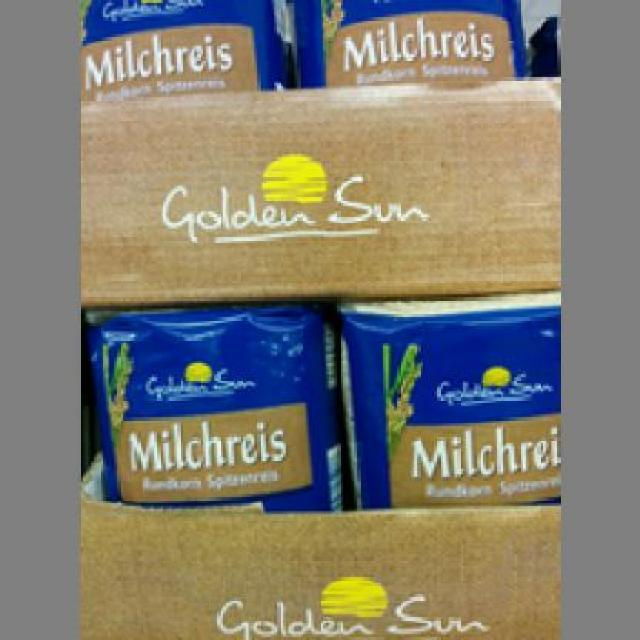Rice: (83, 300, 343, 506), (334, 288, 557, 506), (286, 0, 528, 86), (76, 0, 289, 95)
